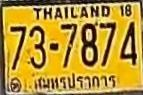3: (29, 25, 46, 68)
4: (119, 21, 136, 64)
7: (10, 25, 26, 69), (60, 23, 76, 67), (99, 22, 115, 65)
8: (80, 22, 97, 65)
SPK: (31, 73, 119, 92)
